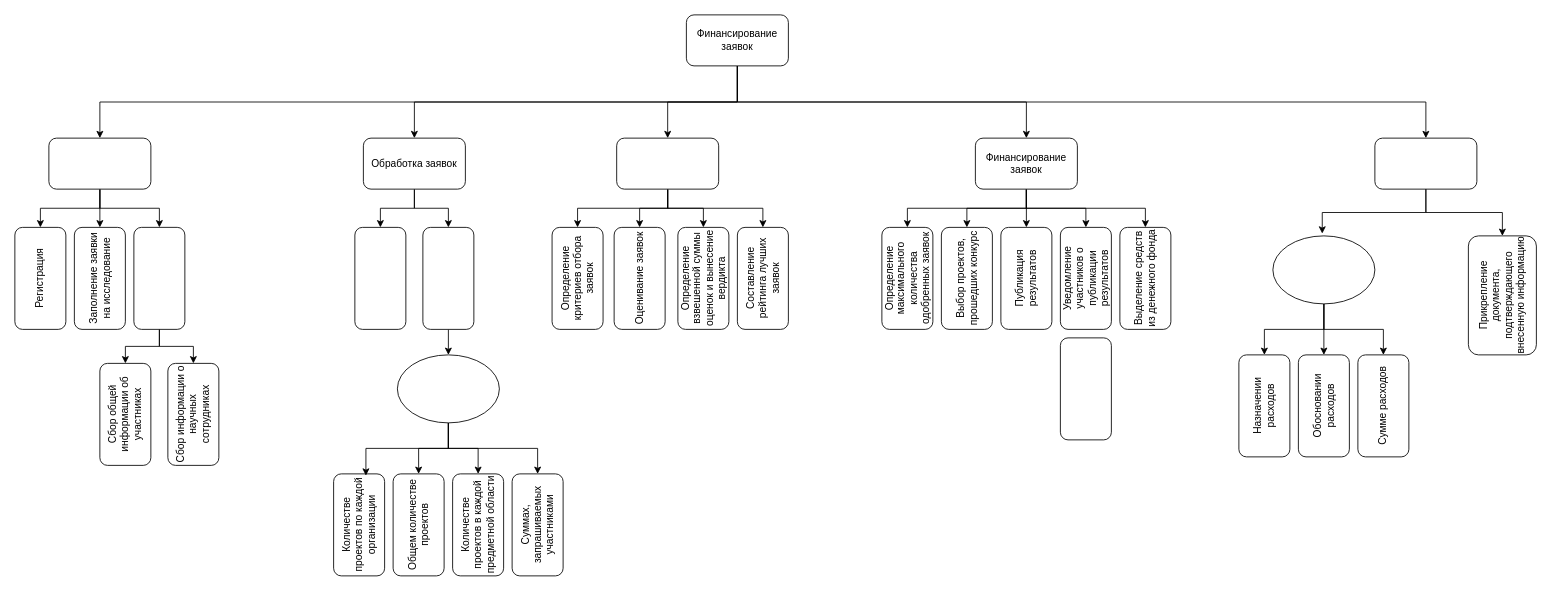
This 1551x591 diagram has some shape labels left out. The shapes that lost their labels are listed below. From the top down, each one's centre as x and y in pixels, then its label:
At [99,163]: "Подача заявки".
At [667,163]: "Отбор заявок, прошедших конкурс".
At [1425,163]: "Отчет о расходах".
At [159,278]: "Сбор информации об участниках".
At [380,278]: "Просмотр полученных заявок".
At [448,278]: "Анализ и статистика по всем заявкам".
At [1323,269]: "Внести информацию о:".
At [448,388]: "Сбор информации о:".
At [1085,388]: "Рассылка по предоставленным контактным данным".
